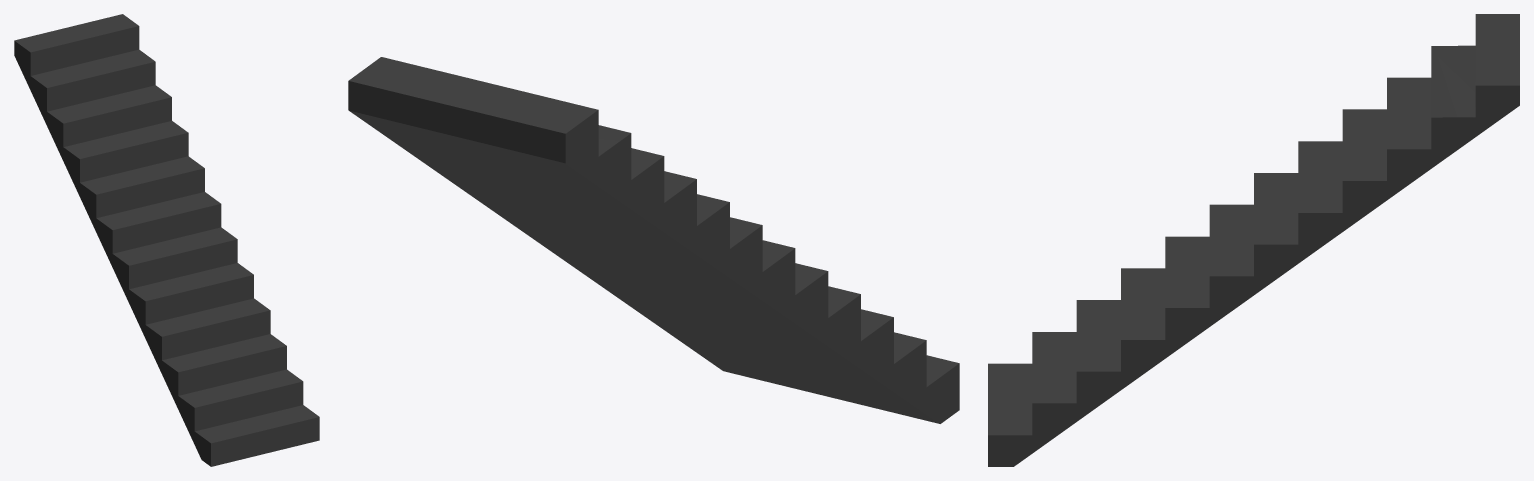
The model's file is Stairs_046.glb.
The picture shows the model from 3 angles, left to right: view 1: azimuth 30°, elevation 25°; view 2: azimuth 150°, elevation 25°; view 3: azimuth 270°, elevation 25°; orthographic projection. The views are drawn at different scales.
Visible parts, largest first — view 1: Stairs_046; view 2: Stairs_046; view 3: Stairs_046.
Boxes of the visible parts, left/top/right/bottom form: Stairs_046: left=14, top=14, right=319, bottom=466; Stairs_046: left=348, top=57, right=959, bottom=423; Stairs_046: left=988, top=14, right=1519, bottom=466.
Size of the model in its own units: 1.62 by 4.02 by 5.08.
Materials: 1 (1 with a texture image).
